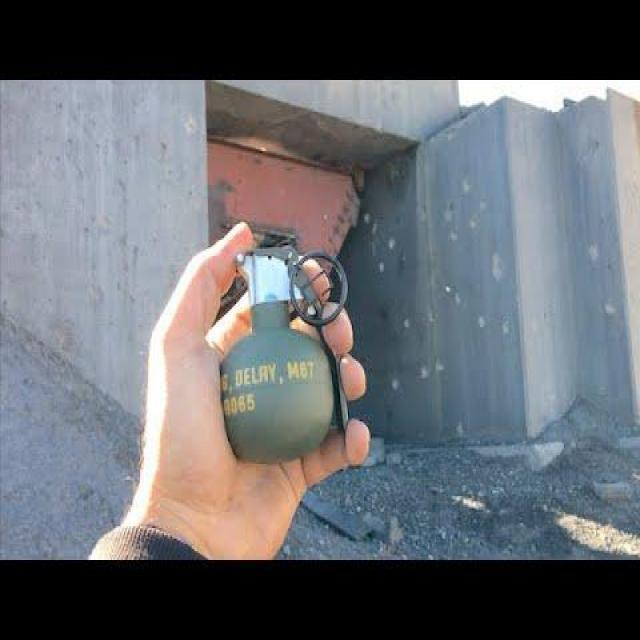grenade: (224, 215, 358, 473)
